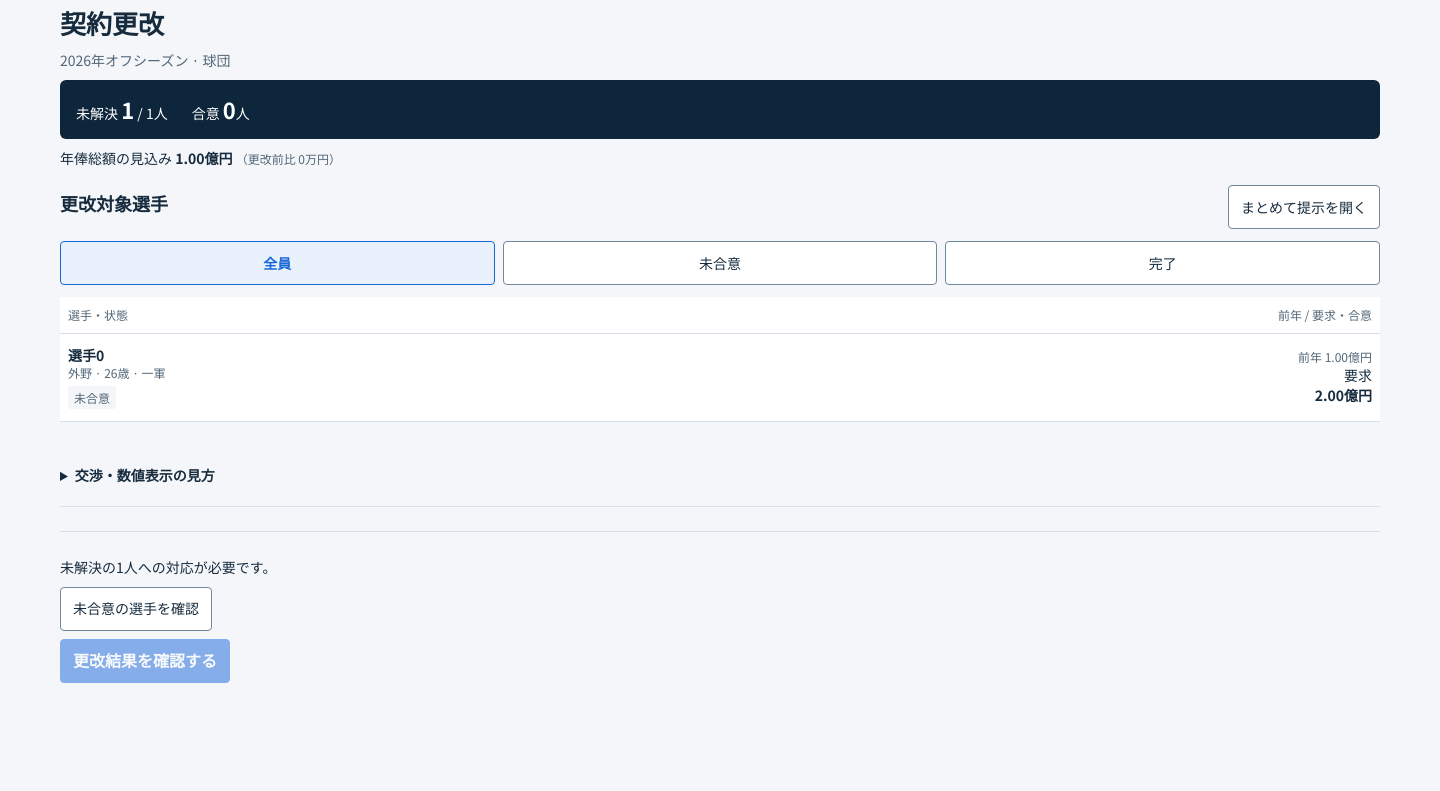
Scenario: contract renewal workflow › can revise to the exact cut boundary and keeps rejection history
Click the button "選手0 外野 · 26歳 · 一軍 未合意 前年 1.00億円 要求 2.00億円" at coordinates (86, 355), box [60,334,1380,421]
(page scrolled)
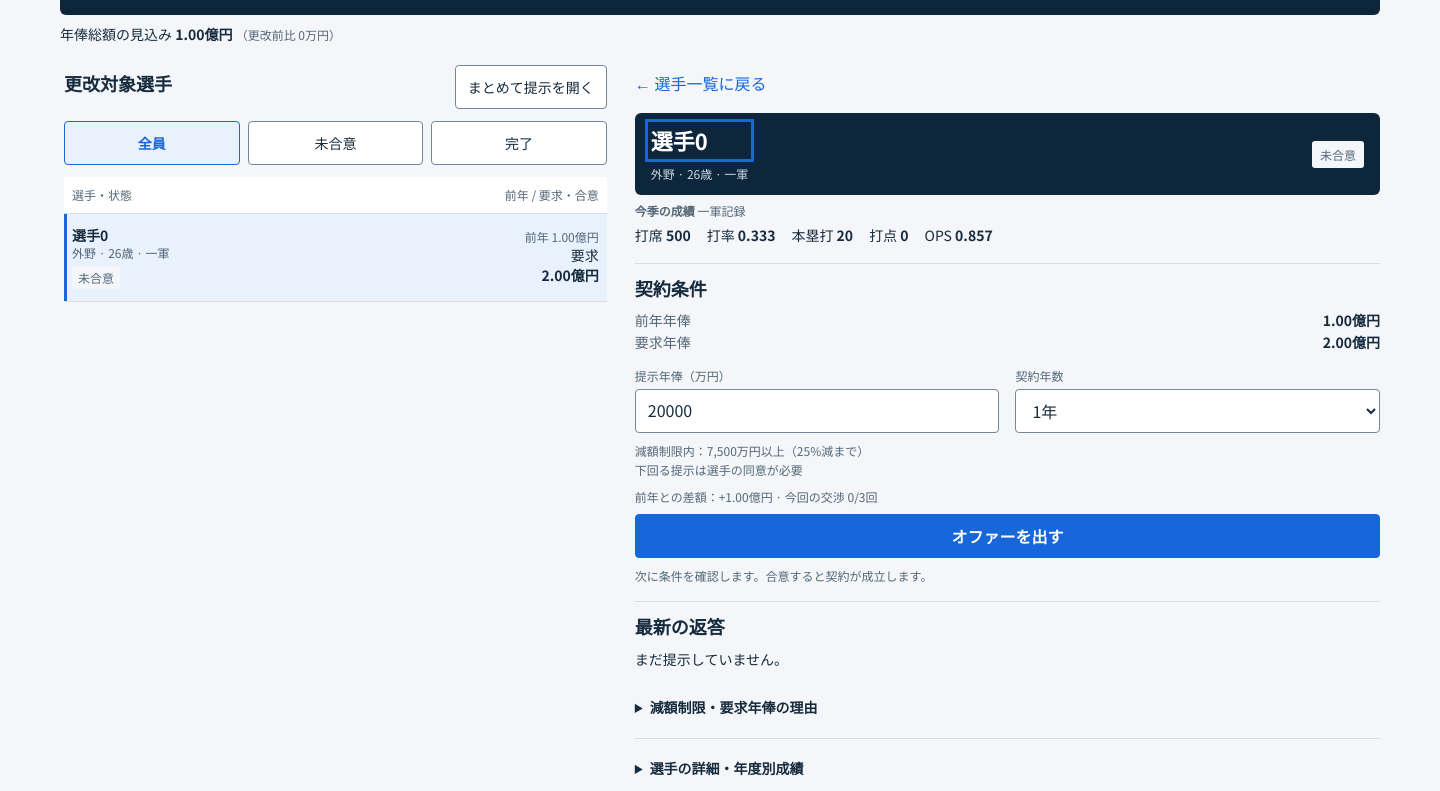
Replace the text in the number field labelled "提示年俸（万円）" with "5000" at coordinates (817, 411), box [635,389,999,433]
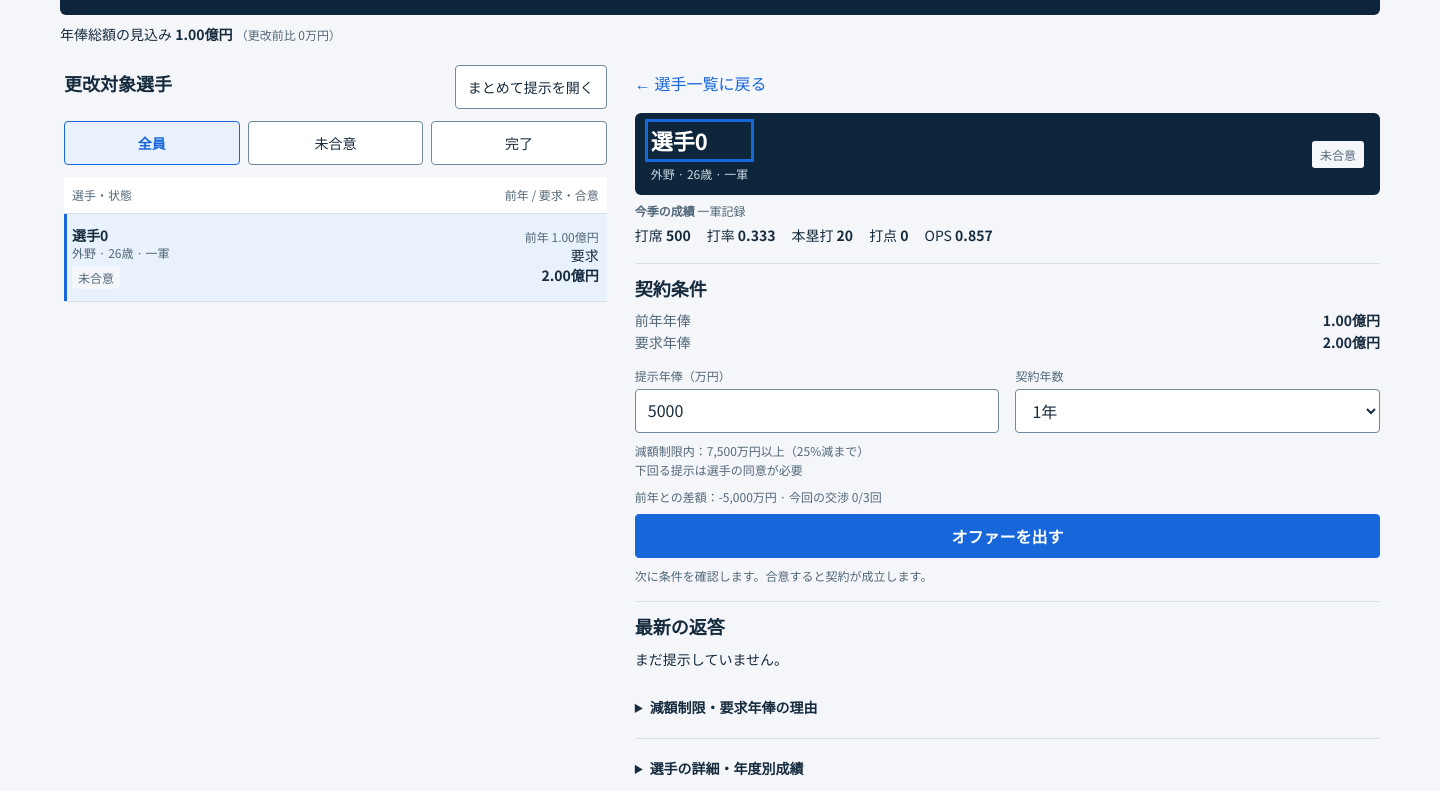
Click the button "オファーを出す" at coordinates (1007, 536), box [635,514,1380,558]
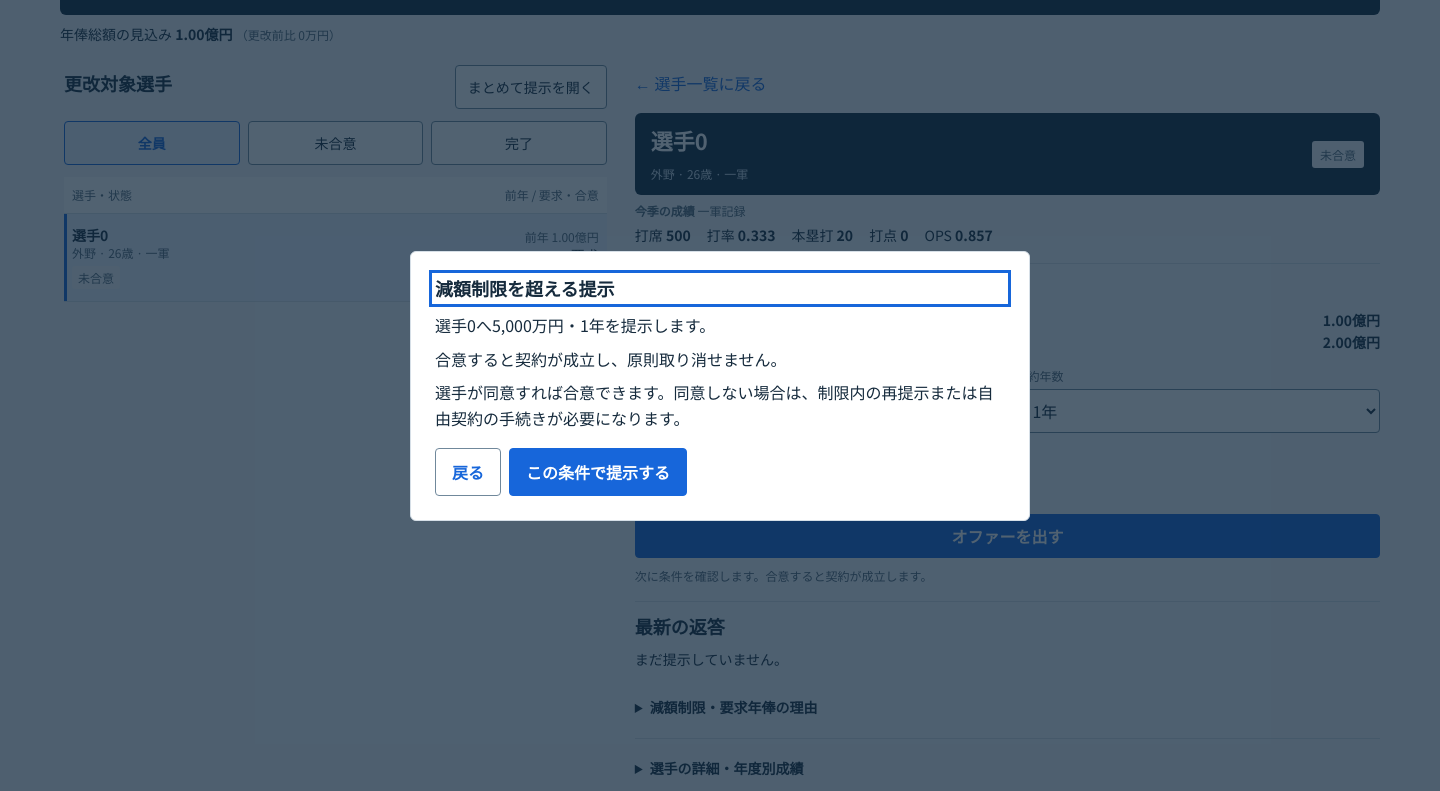
Click the button "この条件で提示する" at coordinates (598, 472), box [509,448,687,496]
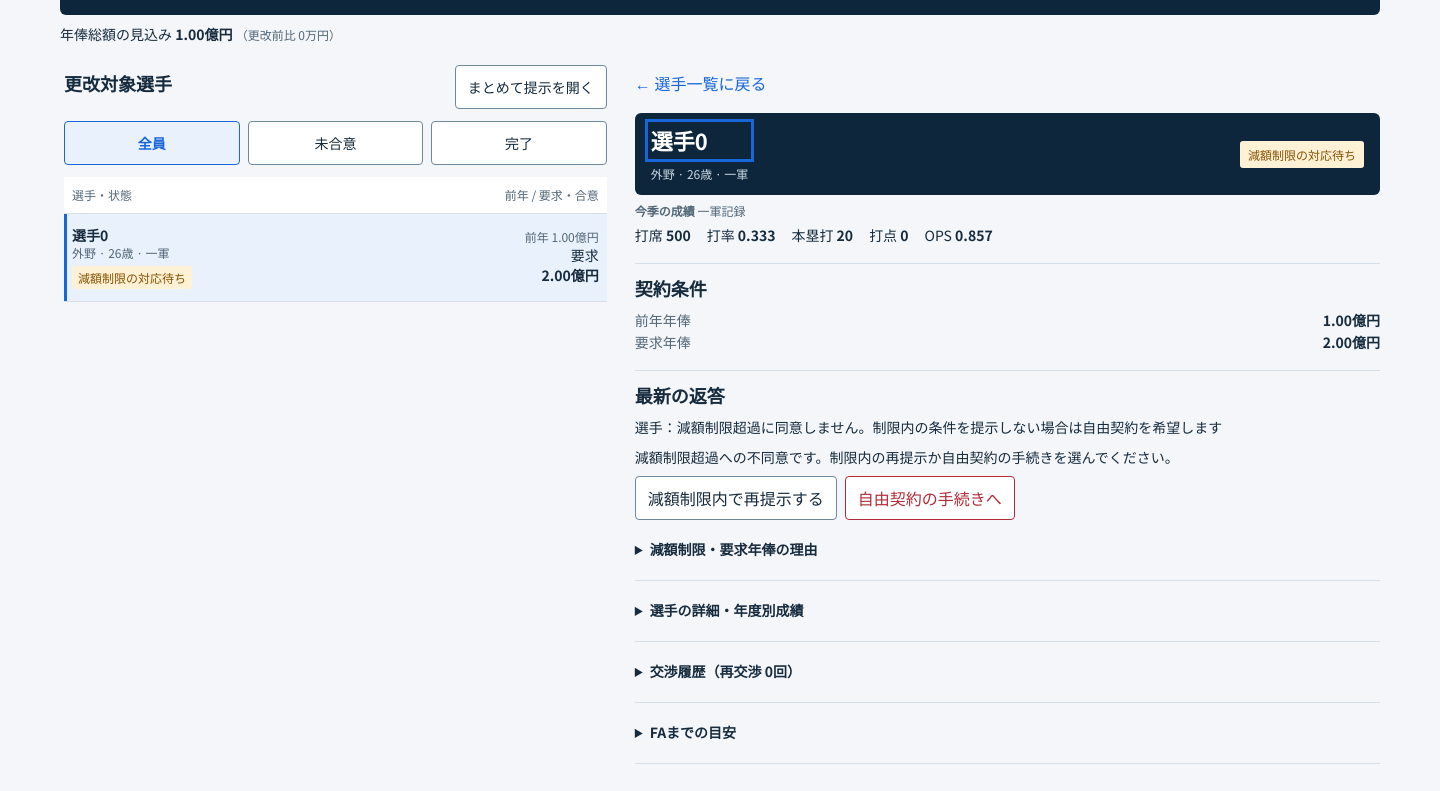
Click the button "減額制限内で再提示する" at coordinates (736, 498), box [635,476,837,520]
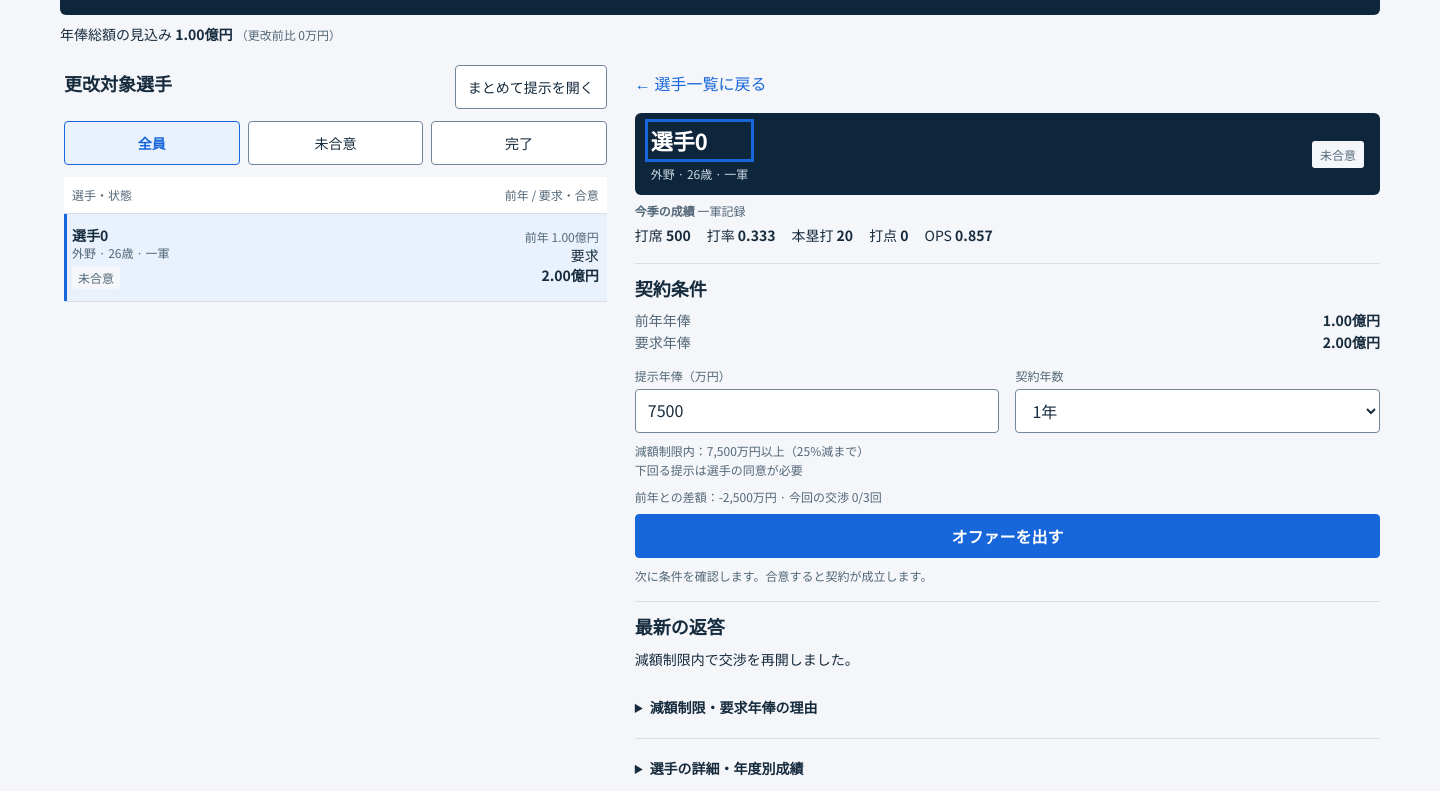
Result: the number field labelled "提示年俸（万円）" holds "7500" at [635,389,999,433]
